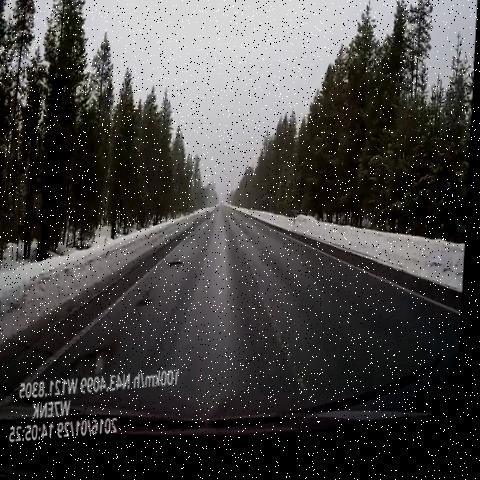pothole: (69, 346, 118, 385), (163, 251, 190, 283), (134, 293, 161, 324)
